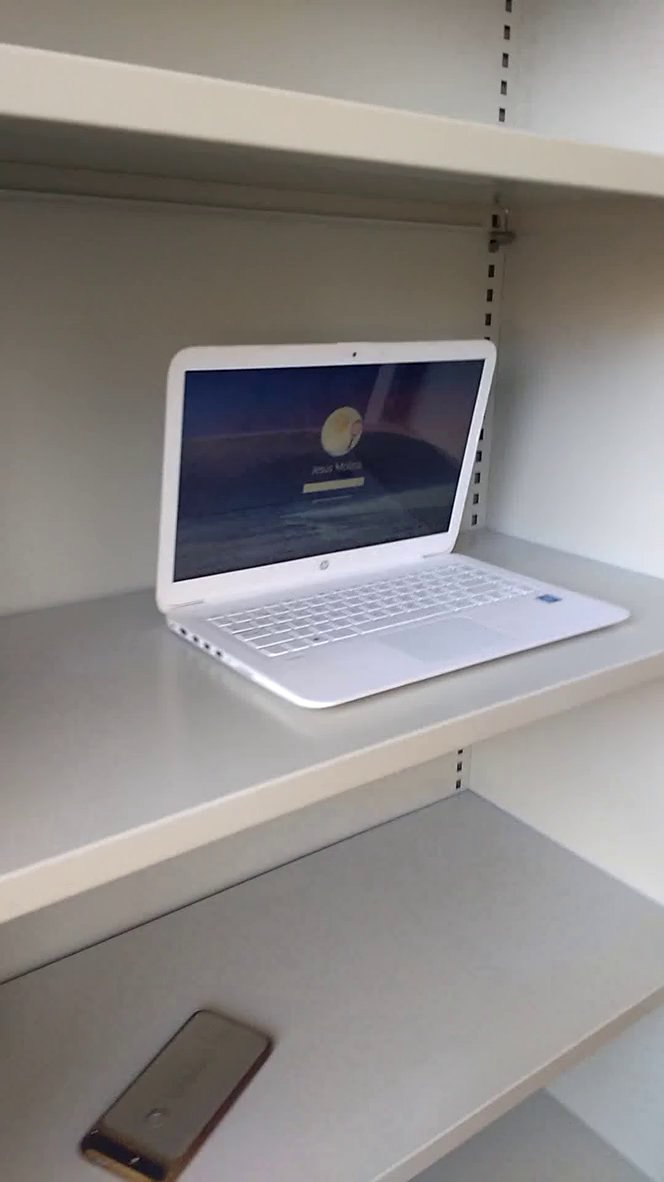laptop: (134, 318, 648, 728)
phone: (62, 997, 306, 1182)
